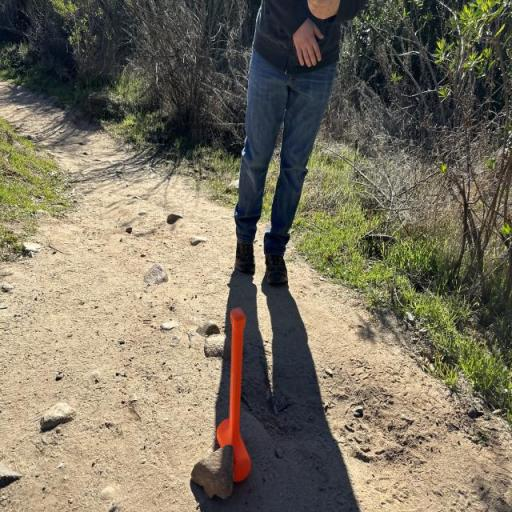mallet: (216, 306, 252, 482)
